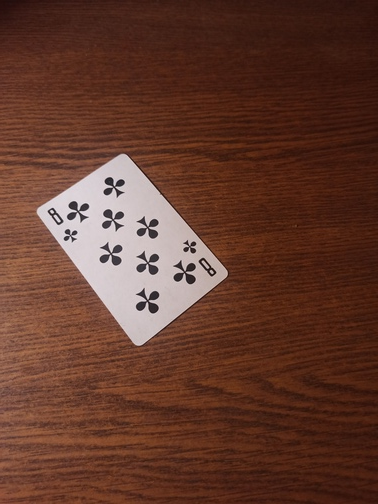eightclubs: (38, 152, 228, 347)
